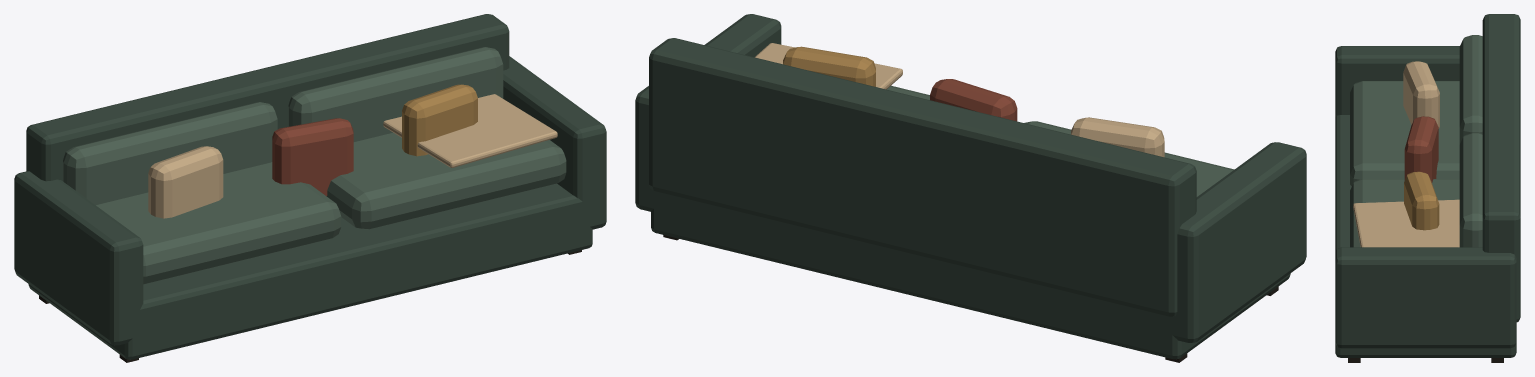
3 views of the same model, side by side, from view 1: azimuth 30°, elevation 25°; view 2: azimuth 150°, elevation 25°; view 3: azimuth 270°, elevation 25° (orthographic). The views are drawn at different scales.
Parts seen in each view (by area): view 1: sofa; view 2: sofa; view 3: sofa.
Boxes of the visible parts, x1,y1,x2,y2 form: sofa: (14, 14, 606, 362); sofa: (635, 14, 1306, 362); sofa: (1335, 14, 1520, 362).
Bounding box in the file's own units: 2.42 × 0.79 × 0.88.
